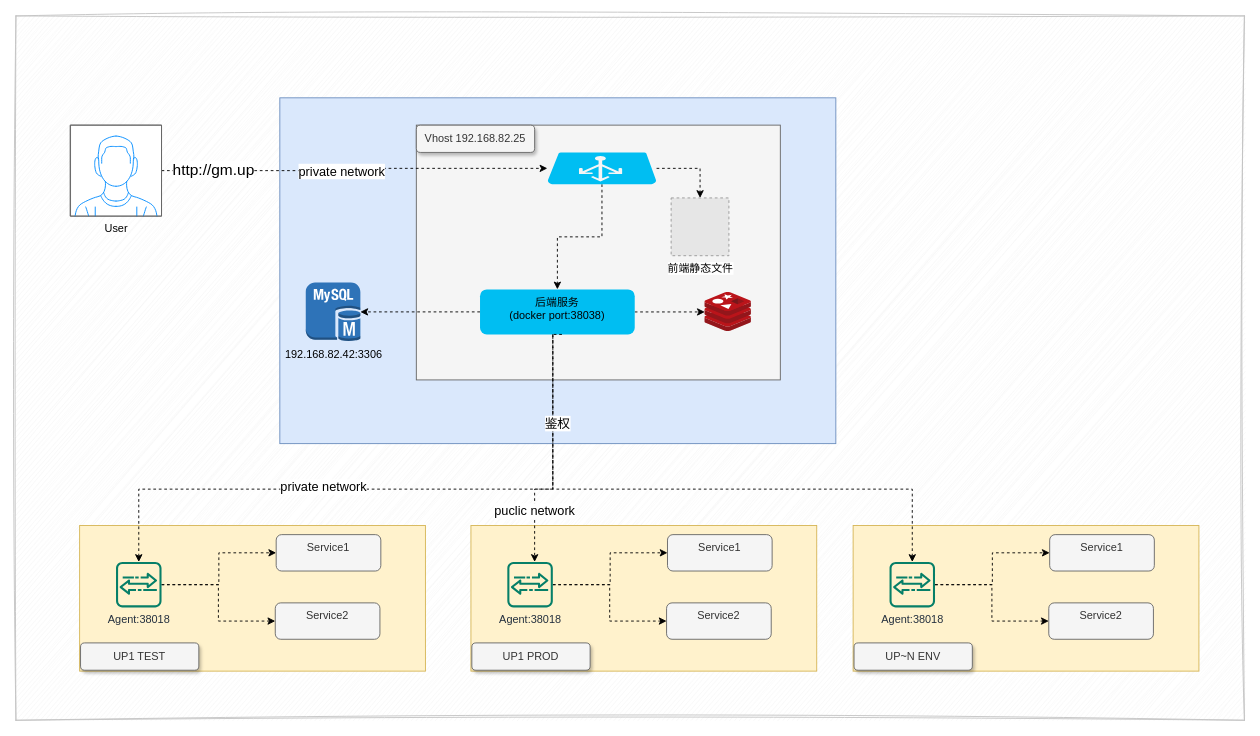
This 1260x736 diagram has some shape labels left out. Grey dashed boxes stand in for pictures. Each missing label, with the centre of its shape:
"Nginx(docker port:80)" goes at (601,168).
"Redis(docker port:6379)" goes at (727,311).
